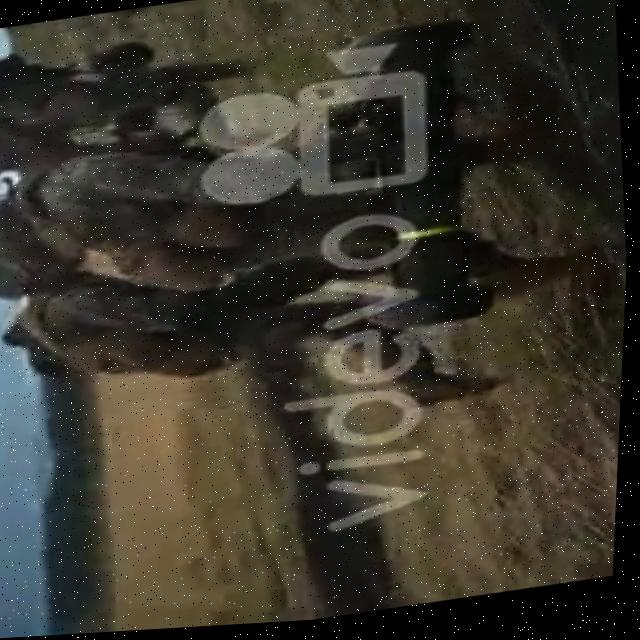rocket: (340, 24, 496, 336)
